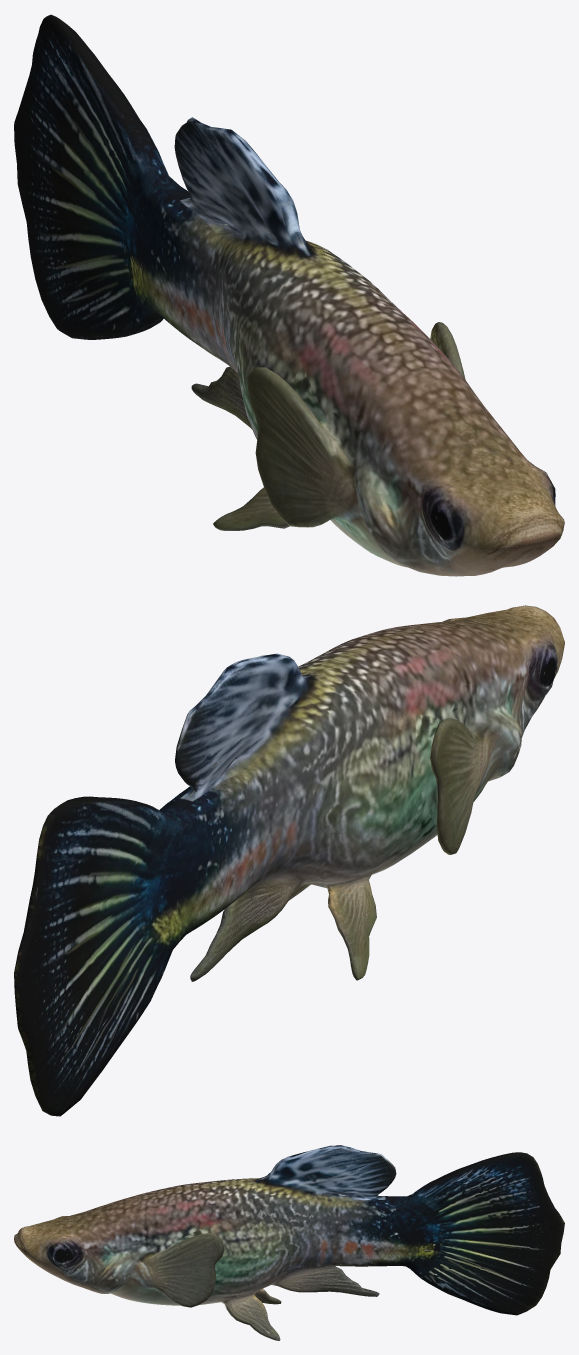
The model's file is spacefish_baby.glb.
3 renders of one model, top to bottom at view 1: azimuth 30°, elevation 25°; view 2: azimuth 150°, elevation 25°; view 3: azimuth 270°, elevation 25°, orthographic. The views are drawn at different scales.
Visible parts, largest first — view 1: spacefish_body, spacefish_fins, spacefish_body_low, spacefish_fins_low; view 2: spacefish_body, spacefish_fins, spacefish_body_low, spacefish_fins_low; view 3: spacefish_body, spacefish_fins, spacefish_body_low, spacefish_fins_low.
Boxes of the visible parts, x1,y1,x2,y2 form: spacefish_body: [163, 147, 564, 576]; spacefish_fins: [14, 14, 254, 412]; spacefish_body_low: [168, 147, 564, 576]; spacefish_fins_low: [14, 18, 230, 403]; spacefish_body: [175, 605, 564, 980]; spacefish_fins: [14, 659, 254, 1116]; spacefish_body_low: [179, 606, 564, 978]; spacefish_fins_low: [19, 669, 246, 1113]; spacefish_body: [14, 1150, 382, 1340]; spacefish_fins: [320, 1145, 564, 1315]; spacefish_body_low: [15, 1148, 384, 1339]; spacefish_fins_low: [331, 1146, 560, 1312].
Size of the model in its own units: 0.4176 by 0.7071 by 2.
Materials: 2 (2 with a texture image).
